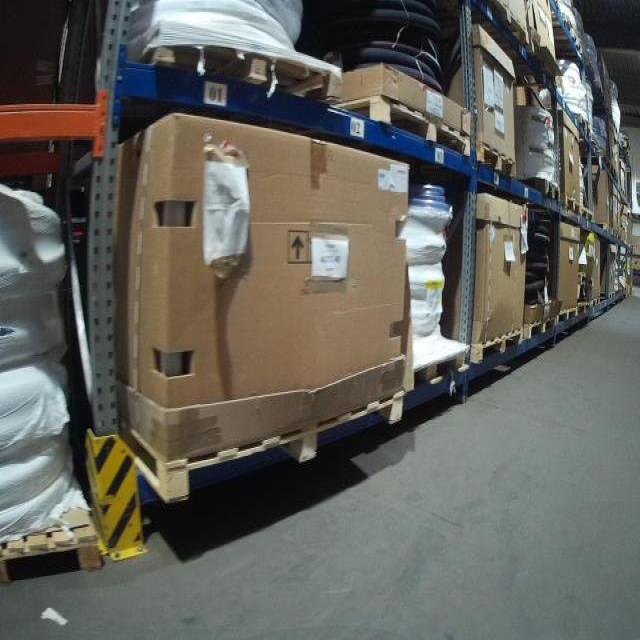pallet: (121, 389, 408, 511), (132, 27, 344, 107), (0, 504, 107, 586), (345, 93, 474, 158), (403, 342, 471, 401), (484, 0, 529, 49), (469, 328, 523, 367), (472, 139, 519, 179), (528, 39, 555, 81), (523, 315, 557, 341), (530, 181, 562, 205), (561, 195, 582, 217), (556, 304, 578, 325), (576, 299, 591, 315), (580, 206, 593, 221), (591, 296, 598, 309), (607, 290, 614, 300)
